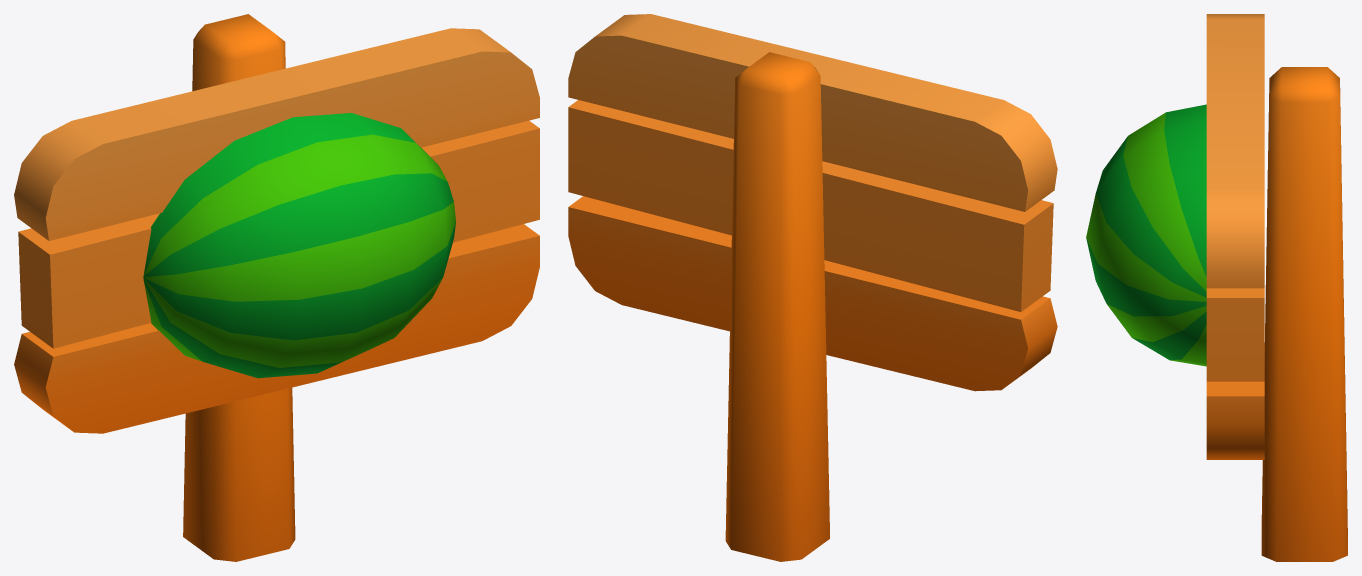
Rendered from Farm_Crop_Sign_Watermelon_01.fbx.
The picture shows the model from 3 angles, left to right: view 1: azimuth 30°, elevation 25°; view 2: azimuth 150°, elevation 25°; view 3: azimuth 270°, elevation 25°; orthographic projection. The views are drawn at different scales.
Visible parts, largest first — view 1: Farm_Crop_Sign_Watermelon_01; view 2: Farm_Crop_Sign_Watermelon_01; view 3: Farm_Crop_Sign_Watermelon_01.
Part boxes in pixels (box(x1,y1,x2,y2)): Farm_Crop_Sign_Watermelon_01: box(14, 14, 539, 561); Farm_Crop_Sign_Watermelon_01: box(568, 14, 1057, 561); Farm_Crop_Sign_Watermelon_01: box(1086, 14, 1347, 561).
Size of the model in its own units: 90.11 by 88.8 by 45.12.
